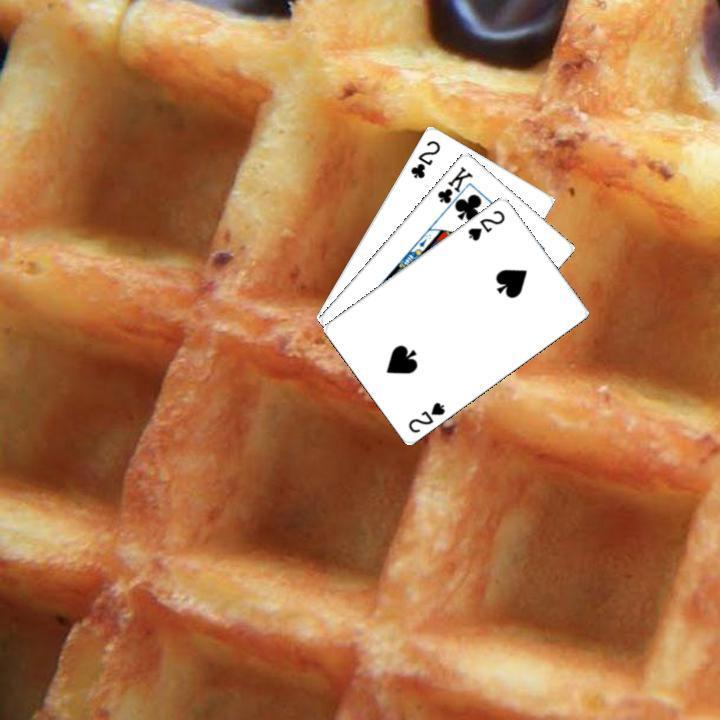2: (463, 205, 507, 243), (404, 397, 447, 435), (406, 135, 442, 180)
K: (433, 162, 475, 214)
